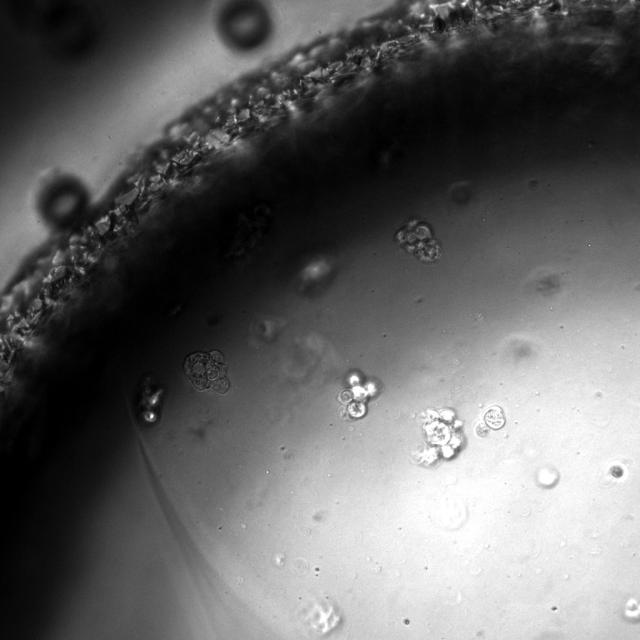organoid: (414, 408, 463, 464), (338, 369, 379, 420), (184, 349, 229, 394), (396, 220, 441, 264), (134, 374, 166, 426), (474, 405, 506, 436), (609, 465, 622, 477)
